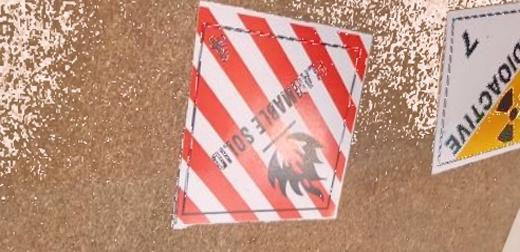flammable-solid: (174, 1, 375, 228)
radioactive: (432, 1, 520, 177)
